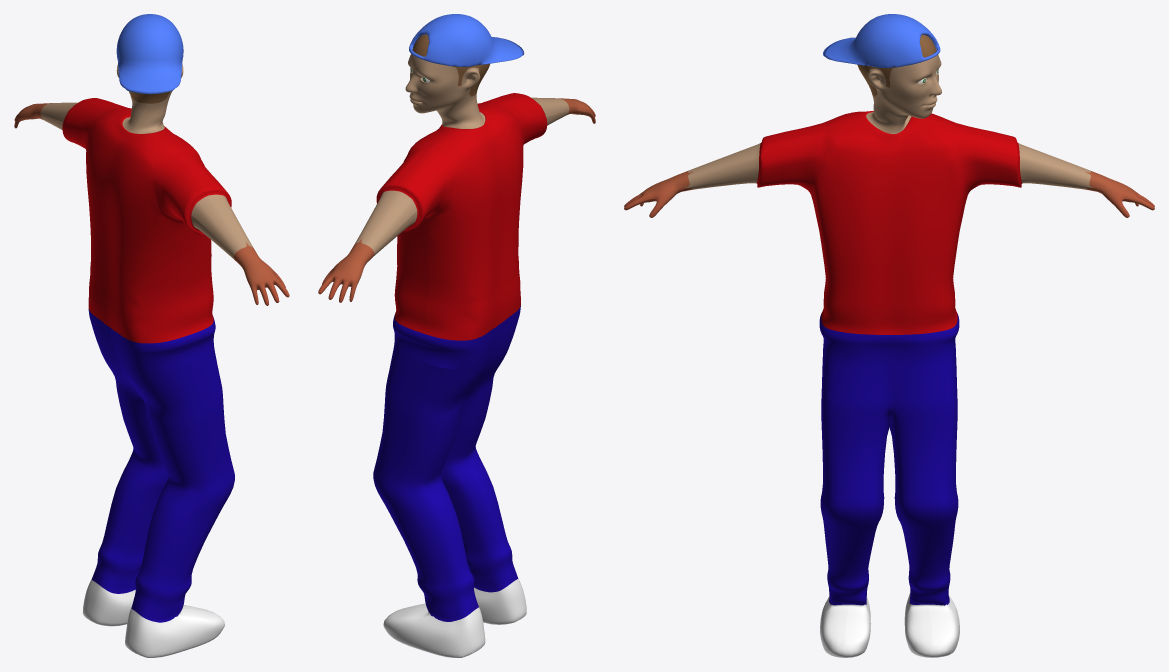
Rendered from PersonajePoseBase.fbx.
3 views of the same model, side by side, from view 1: azimuth 30°, elevation 25°; view 2: azimuth 150°, elevation 25°; view 3: azimuth 270°, elevation 25° (orthographic). The views are drawn at different scales.
Parts seen in each view (by area): view 1: Cuerpo completo smooth.001; view 2: Cuerpo completo smooth.001; view 3: Cuerpo completo smooth.001.
Part boxes in pixels (x1=…): Cuerpo completo smooth.001: x1=14, y1=14, x2=289, y2=657; Cuerpo completo smooth.001: x1=318, y1=14, x2=595, y2=657; Cuerpo completo smooth.001: x1=624, y1=14, x2=1154, y2=657.
Size of the model in its own units: 30.61 by 167 by 129.
